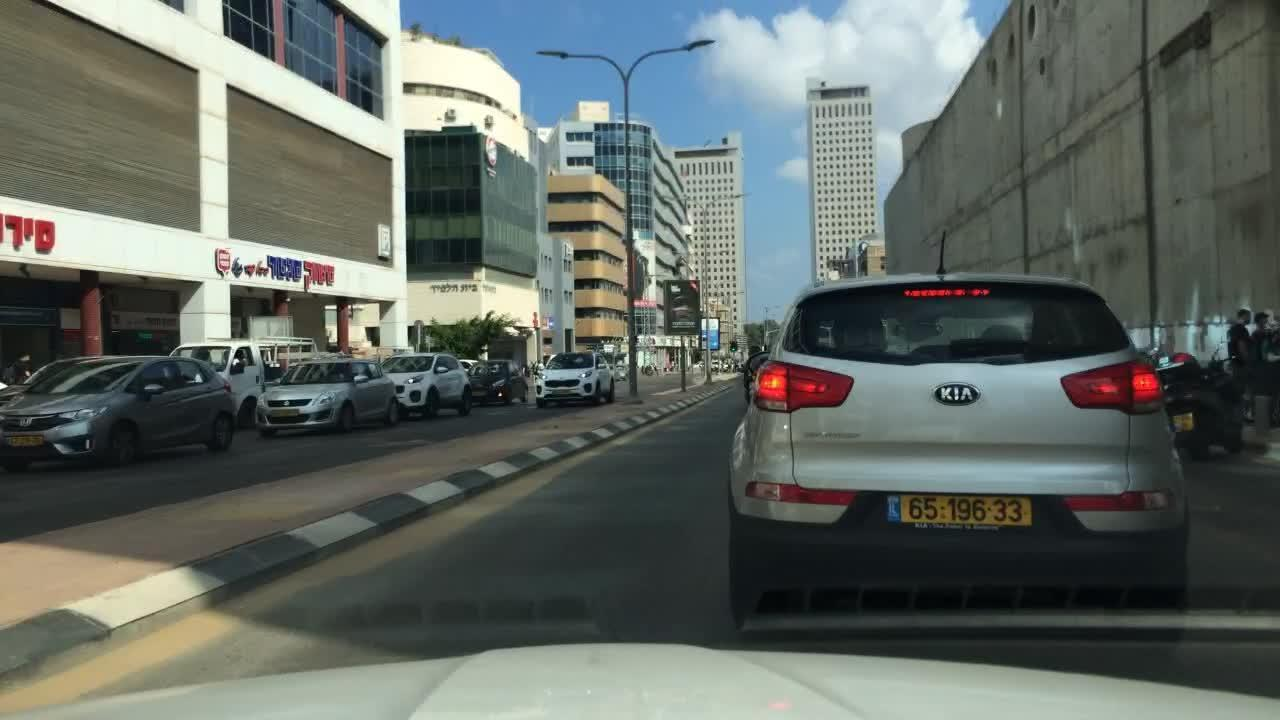kia: (918, 378, 993, 417)
